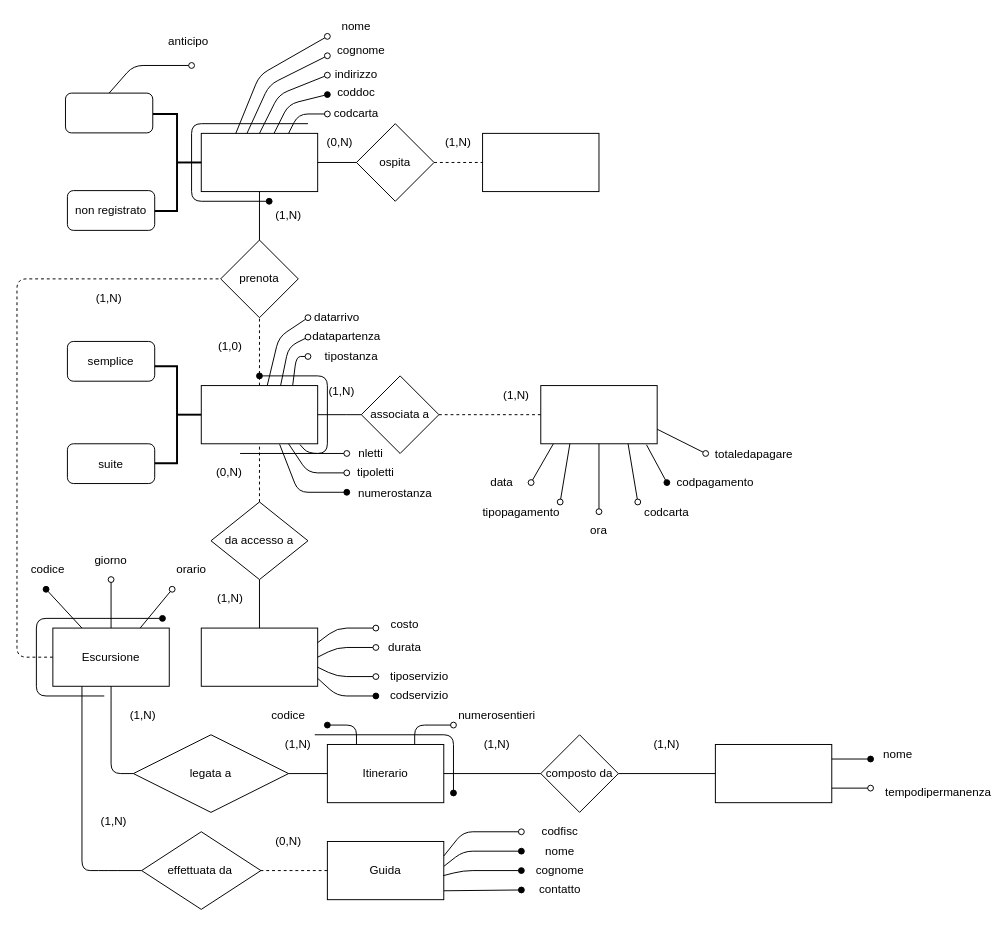
Image size: 1008x926. Some labels were removed from this diagram. The centre of each missing label's shape, as x and y in pixels:
Agriturismo: the point at 540,162
Cliente: the point at 259,162
Pagamenti: the point at 598,414
registrato: the point at 109,112
Servizi Aggiuntivi: the point at 259,656
Stanza: the point at 259,414
Tappe: the point at 773,773
